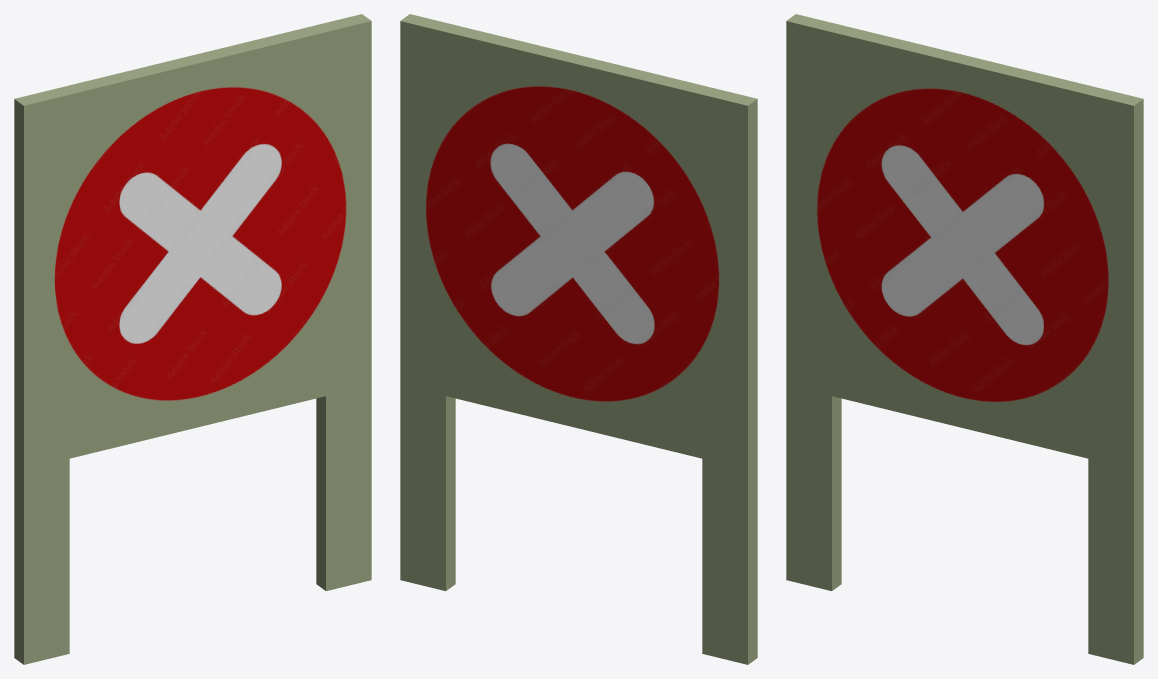
Rendered from X BOARD.fbx.
The picture shows the model from 3 angles, left to right: view 1: azimuth 30°, elevation 25°; view 2: azimuth 150°, elevation 25°; view 3: azimuth 330°, elevation 25°; orthographic projection.
Visible parts, largest first — view 1: pCube1; view 2: pCube1; view 3: pCube1.
Part boxes in pixels (<box>): pCube1: <box>14,14,371,664</box>; pCube1: <box>400,14,757,664</box>; pCube1: <box>786,14,1143,664</box>.
Size of the model in its own units: 0.3363 by 0.5165 by 0.0161.
